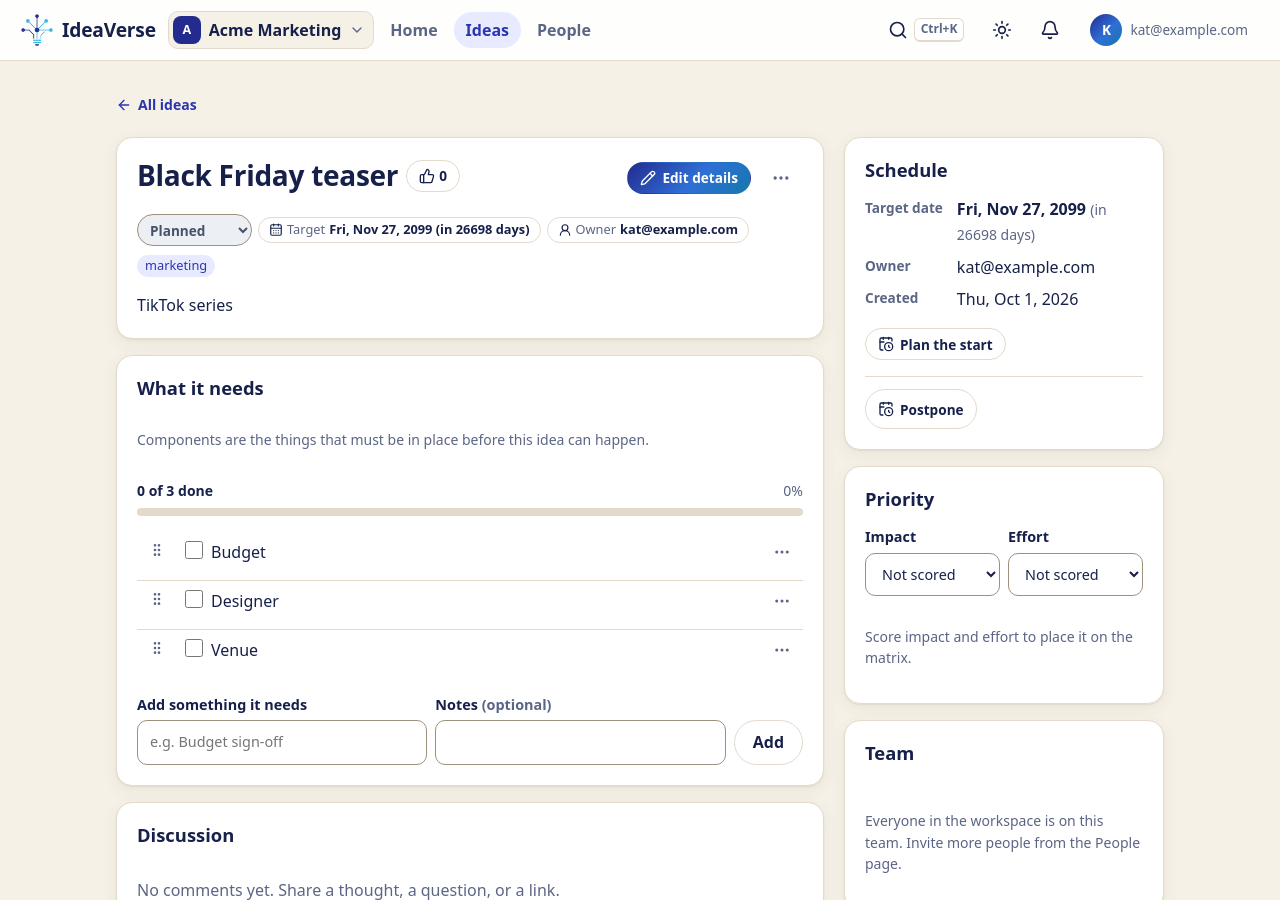
Changing the status from the heading › saves the new status and keeps the idea’s other details
The image size is (1280, 900).
Step 1. Select "Done" in the dropdown named "Status" → (194,230), box x1=137 y1=214 x2=252 y2=246
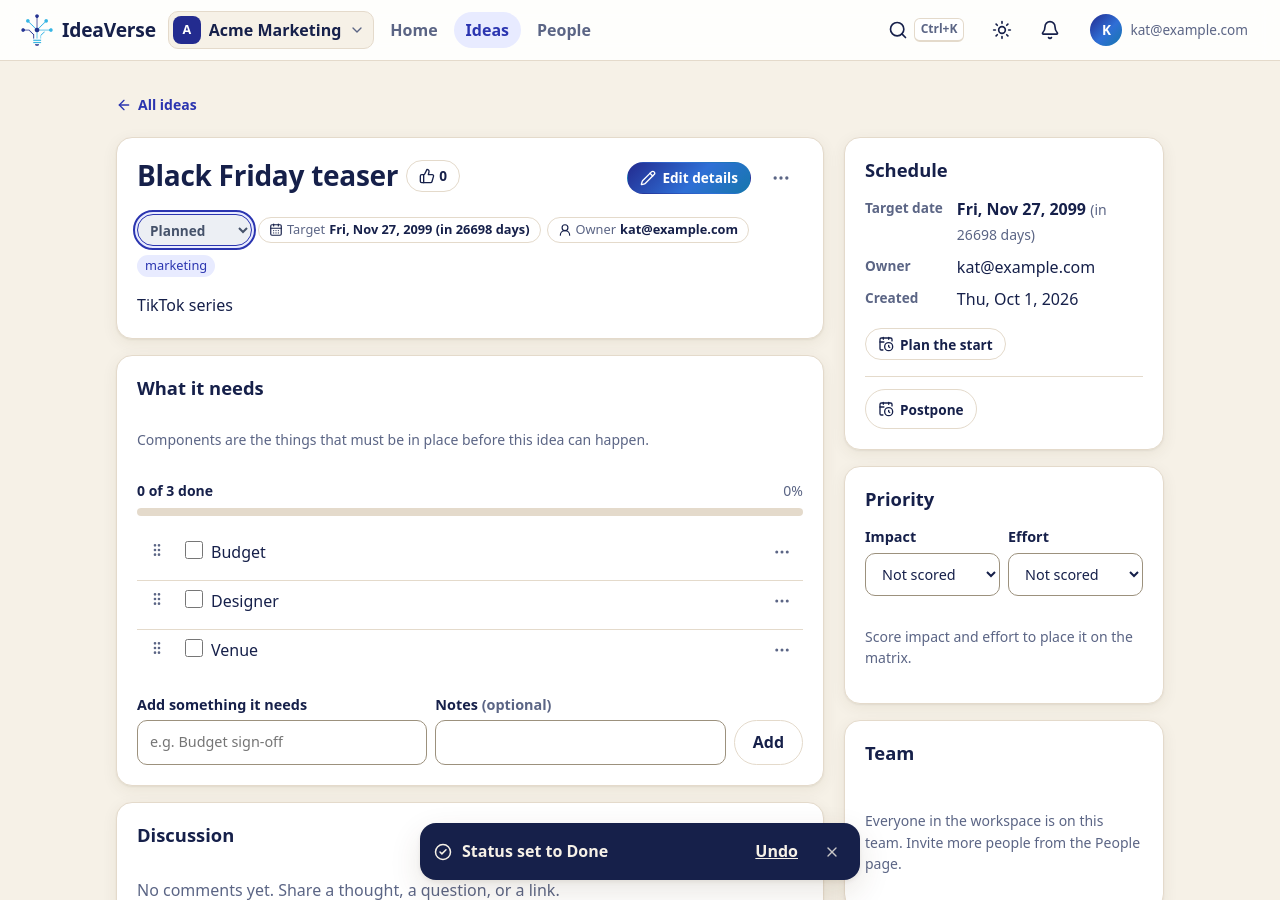
Expected: the text "Status set to Done" is shown, x1=462 y1=840 x2=608 y2=862
